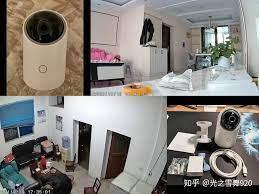maru: (213, 105, 246, 151)
